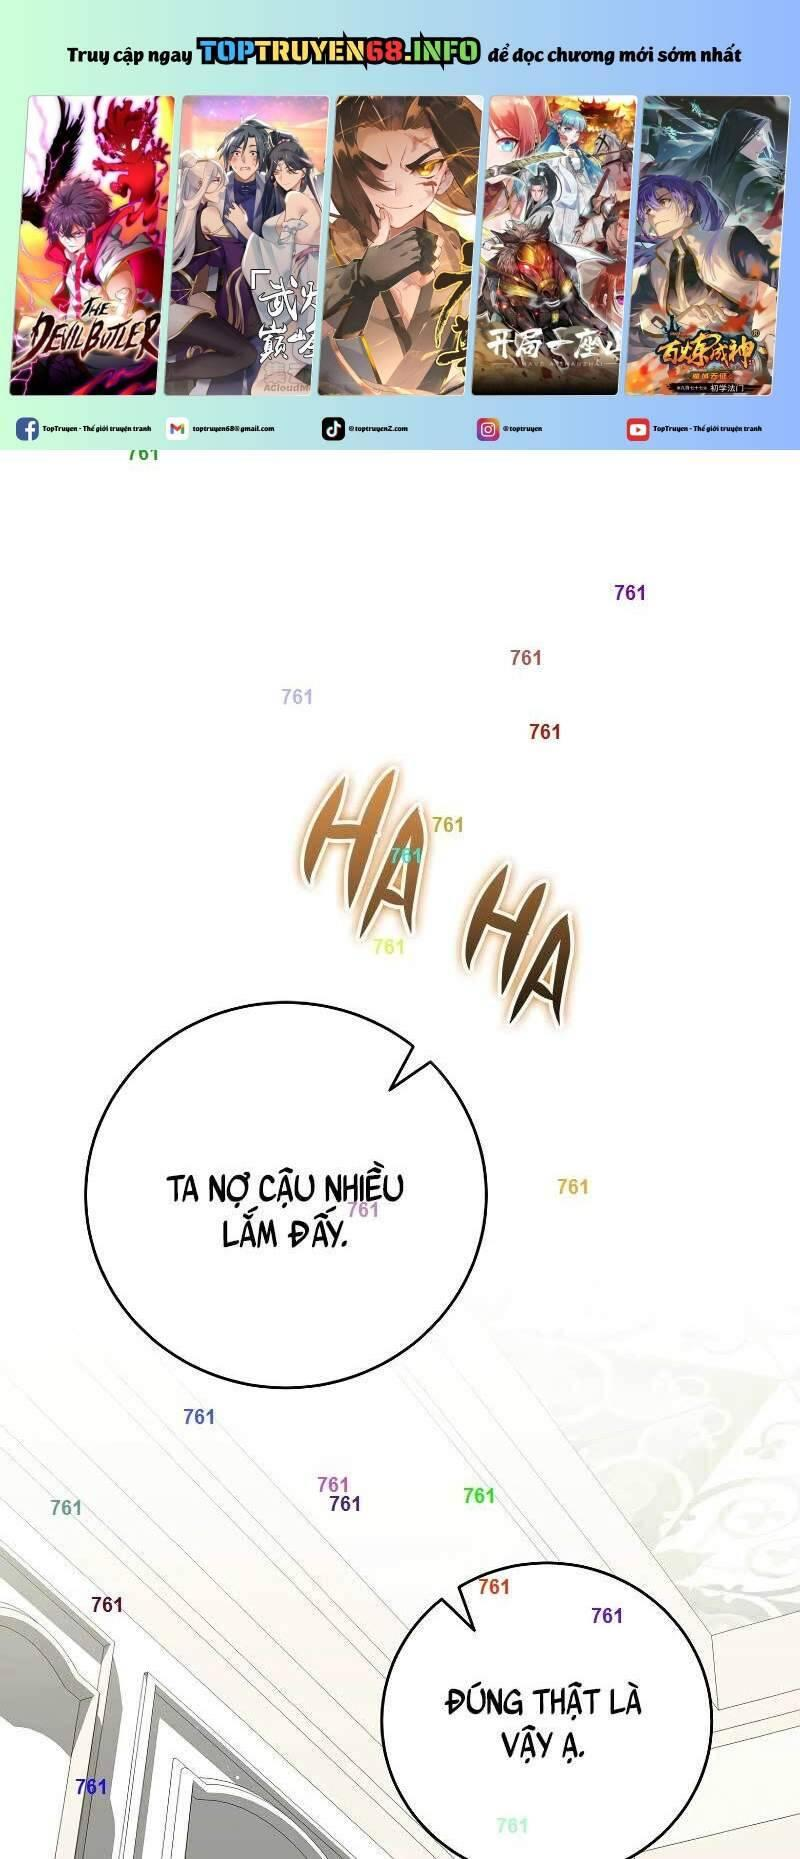quangcao: (0, 0, 800, 455)
